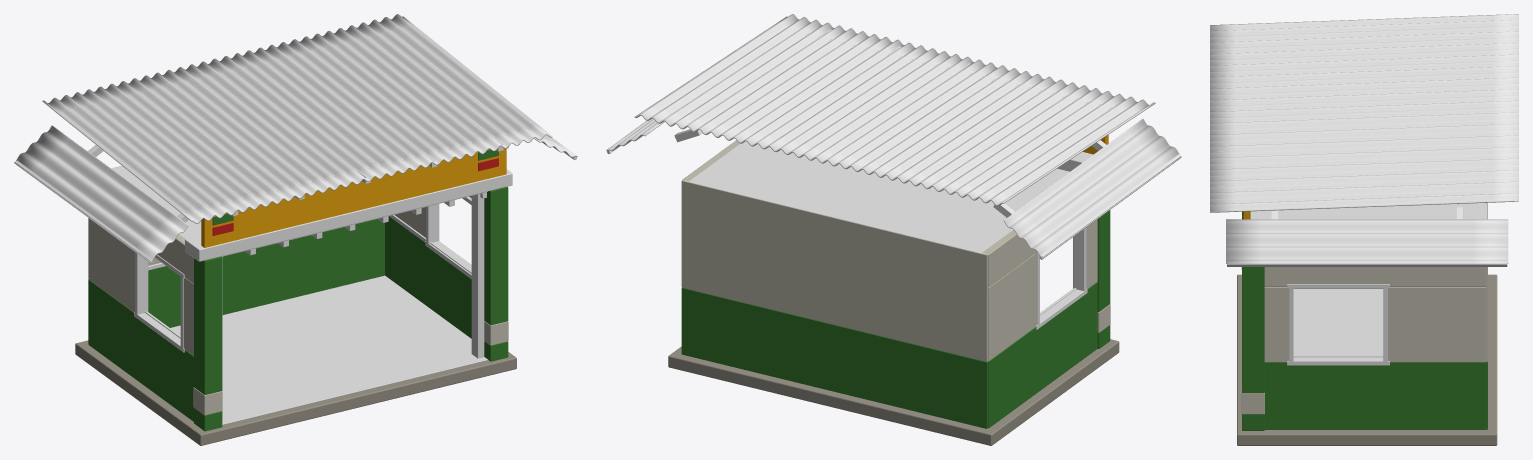
File: warteg_stall.fbx
The picture shows the model from 3 angles, left to right: view 1: azimuth 30°, elevation 25°; view 2: azimuth 150°, elevation 25°; view 3: azimuth 270°, elevation 25°; orthographic projection. The views are drawn at different scales.
Visible parts, largest first — view 1: Roof_Main, Floor_Tiles, BackWall_Green, Roof_Wing_L, Banner, Plinth, Side-1_Green, Side1_Green, Front_Beam, Pillar-1_Upper, Pillar1_Upper, Side-1_CreamRear (+9 smaller); view 2: Roof_Main, BackWall_Cream, BackWall_Green, Ceiling, Roof_Wing_L, Plinth, Side-1_Green, Side-1_CreamRear, Side-1_CreamTop, Pillar-1_Upper, Side-1_WinJambF, Side-1_CreamFront (+2 smaller); view 3: Roof_Main, Side1_Green, Roof_Wing_R, Side1_CreamRear, Plinth, Floor_Tiles, Side1_CreamTop, Pillar1_Upper, Ceiling, Side1_CreamFront, WingFascia_1, Side1_WinSill (+5 smaller).
Part boxes in pixels (x1,y1,x2,y2): Roof_Main: [42, 14, 552, 223]; Floor_Tiles: [170, 275, 487, 424]; BackWall_Green: [88, 219, 384, 343]; Roof_Wing_L: [14, 125, 188, 262]; Banner: [201, 148, 506, 247]; Plinth: [75, 340, 516, 445]; Side-1_Green: [88, 280, 193, 421]; Side1_Green: [385, 216, 471, 338]; Front_Beam: [185, 169, 512, 261]; Pillar-1_Upper: [194, 256, 222, 394]; Pillar1_Upper: [484, 186, 508, 325]; Side-1_CreamRear: [88, 218, 134, 312]; Roof_Main: [634, 14, 1155, 206]; BackWall_Cream: [681, 180, 987, 361]; BackWall_Green: [681, 287, 987, 428]; Ceiling: [685, 141, 1069, 253]; Roof_Wing_L: [1003, 118, 1181, 258]; Plinth: [668, 339, 1119, 445]; Side-1_Green: [988, 282, 1097, 428]; Side-1_CreamRear: [988, 253, 1036, 361]; Side-1_CreamTop: [982, 230, 1035, 287]; Pillar-1_Upper: [1097, 210, 1110, 311]; Side-1_WinJambF: [1073, 227, 1086, 291]; Side-1_CreamFront: [1086, 219, 1097, 288]; Roof_Main: [1210, 14, 1518, 212]; Side1_Green: [1264, 362, 1486, 429]; Roof_Wing_R: [1226, 219, 1508, 263]; Side1_CreamRear: [1388, 287, 1486, 362]; Plinth: [1237, 274, 1497, 445]; Floor_Tiles: [1293, 289, 1486, 429]; Side1_CreamTop: [1264, 267, 1486, 286]; Pillar1_Upper: [1242, 267, 1264, 393]; Ceiling: [1278, 203, 1486, 219]; Side1_CreamFront: [1264, 287, 1288, 362]; WingFascia_1: [1227, 263, 1507, 266]; Side1_WinSill: [1287, 357, 1389, 365].
Bounding box in the file's own units: 639 × 359 × 385.
